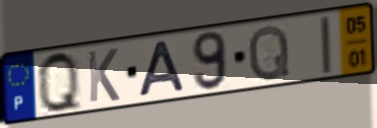9: (191, 29, 230, 93)
A: (137, 38, 188, 100)
I: (317, 14, 334, 77)
K: (86, 47, 122, 105)
Q: (34, 49, 85, 115), (247, 22, 293, 84)
